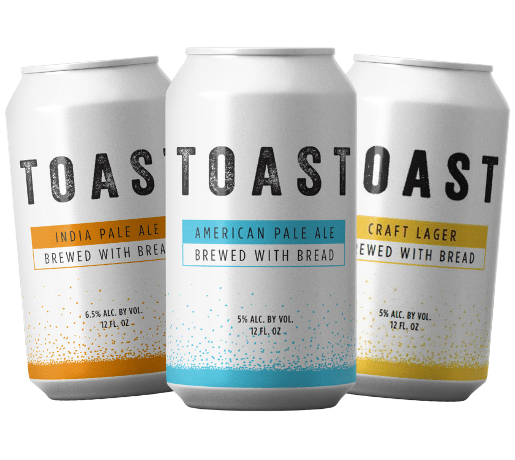beer can: (166, 45, 354, 409), (346, 51, 510, 402), (4, 56, 166, 401)
